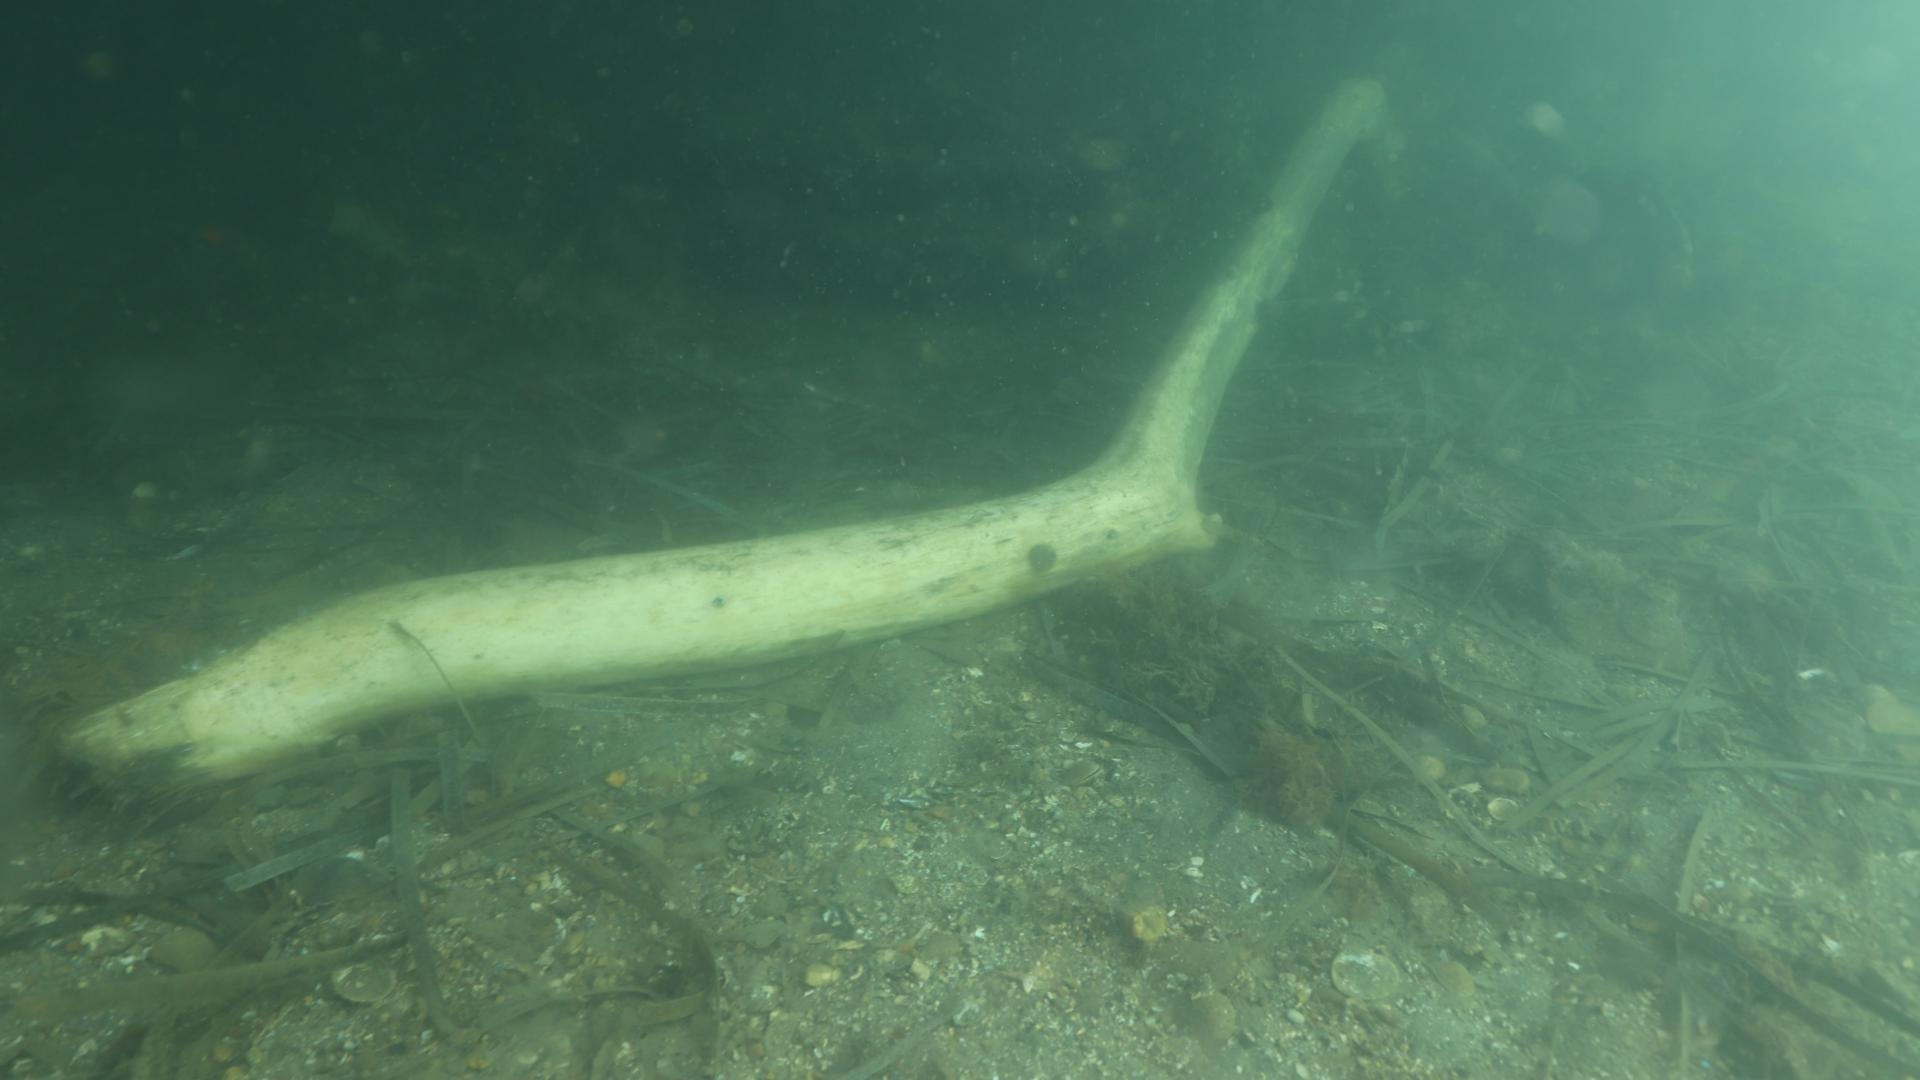wood: (53, 67, 1396, 814)
